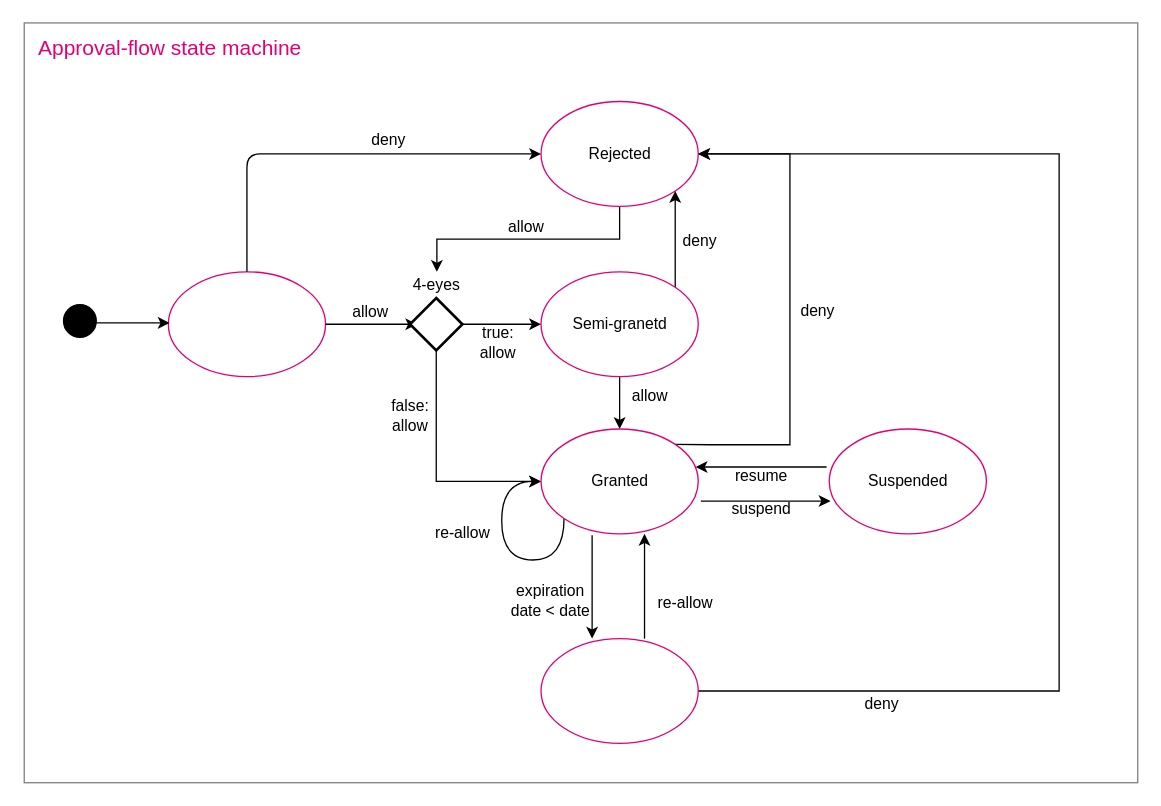
This 1161x806 diagram has some shape labels left out. Each missing label, with the centre of its shape:
"expired" belongs at point (619, 690).
"Pending" belongs at point (246, 324).
